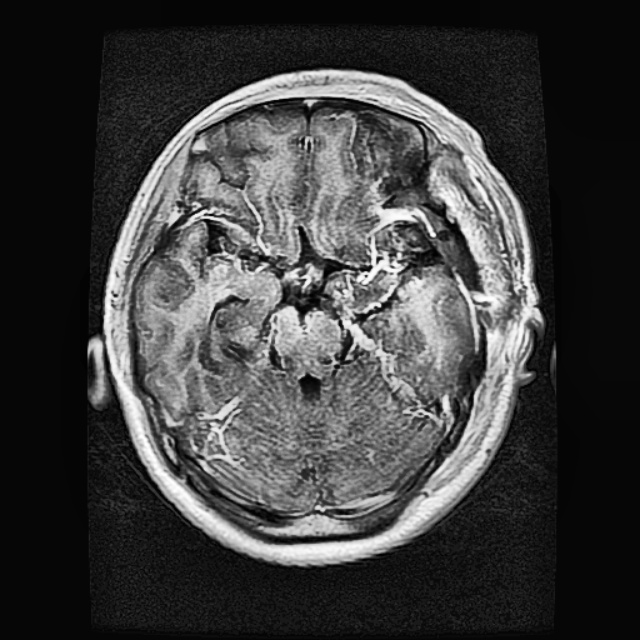Pituitary: (334, 210, 479, 400)
